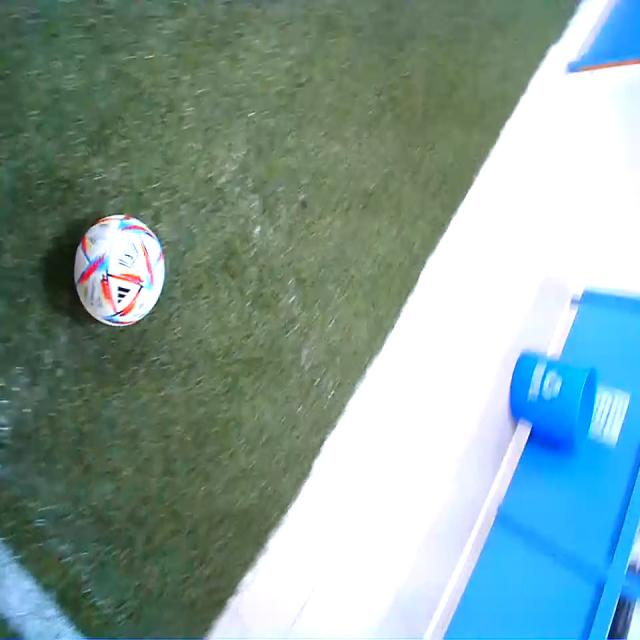ball: (74, 212, 165, 328)
